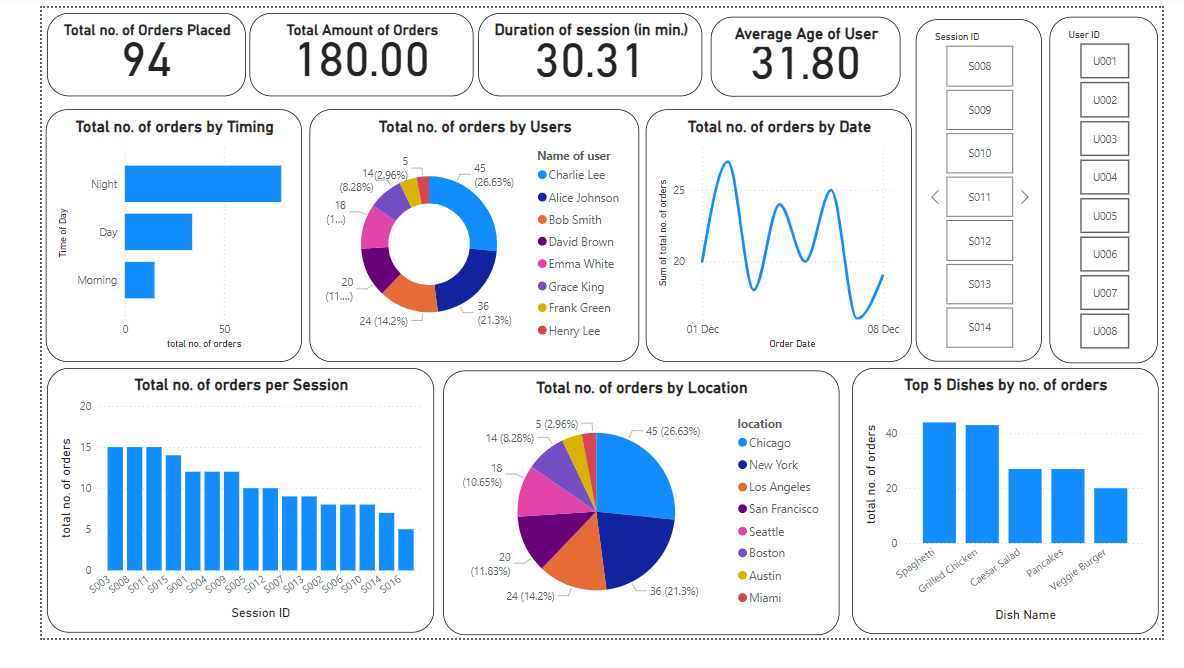

This screenshot's page, from the dashboard's own definition file:
{"tool":"powerbi","page":{"name":"Page 1","canvas":[1280,720],"ordinal":0},"visuals":[{"type":"donutChart","title":"Total no. of orders by Users","fields":{"Category":["user detail+ cookoing session.UserDetails csv.User Name"],"Y":["user detail+ cookoing session.UserDetails csv.Total Orders"]},"box":[305.7,115.7,377.1,288.6],"z":0},{"type":"lineClusteredColumnComboChart","title":"Total no. of orders per Session","fields":{"Category":["user detail+ cookoing session.Session ID"],"Y":["user detail+ cookoing session.UserDetails csv.Total Orders"]},"box":[6.2,411.2,442.5,302.5],"z":1000},{"type":"pieChart","title":"Total no. of orders by Location","fields":{"Y":["user detail+ cookoing session.UserDetails csv.Total Orders"],"Category":["user detail+ cookoing session.UserDetails csv.Location"]},"box":[458.8,413.8,452.5,302.5],"z":2000},{"type":"columnChart","title":"Top 5 Dishes by no. of orders","fields":{"Category":["user detail+ cookoing session.Dish Name"],"Y":["user detail+ cookoing session.UserDetails csv.Total Orders"]},"box":[925.7,411.4,350,304.3],"z":4000},{"type":"card","title":"Total no. of Orders Placed","fields":{"Values":["UserDetails csv.Total Orders"]},"box":[5,5,227.5,95],"z":5000},{"type":"card","title":"Total Amount of Orders ","fields":{"Values":["cooking session+order detail.OrderDetails csv.Amount (USD)"]},"box":[237.5,5,256.2,95],"z":6000},{"type":"clusteredBarChart","title":"Total no. of orders by Timing","fields":{"Category":["cooking session+order detail.OrderDetails csv.Time of Day"],"Y":["user detail+ cookoing session.total no. of orders"]},"box":[4.3,115.7,292.9,288.6],"z":7000},{"type":"card","title":"Duration of session (in min.)","fields":{"Values":["CookingSessions csv.Average duration of Session"]},"box":[498.8,5,256.2,95],"z":8000},{"type":"slicer","fields":{"Values":["user detail+ cookoing session.User ID"]},"box":[1151.4,10,124.3,395.7],"z":9000},{"type":"lineChart","title":"Total no. of orders by Date","fields":{"Y":["user detail+ cookoing session.total no. of orders"],"Category":["OrderDetails csv.Order Date"]},"box":[690,115.7,304.3,288.6],"z":9001},{"type":"slicer","fields":{"Values":["CookingSessions csv.Session ID"]},"box":[998.6,12.9,144.3,391.4],"z":9002},{"type":"card","title":"Average Age of User","fields":{"Values":["UserDetails csv.Average Age"]},"box":[764.3,10,217.1,91.4],"z":9003}]}

Visuals, with their boxes in screenshot pixels (x1, y1, x2, y2), scaled from the page's 1280x720 canvas onto the 1184x668 screenshot:
"Total no. of orders by Users" donutChart: (left=283, top=107, right=632, bottom=375)
"Total no. of orders per Session" lineClusteredColumnComboChart: (left=6, top=382, right=415, bottom=662)
"Total no. of orders by Location" pieChart: (left=424, top=384, right=843, bottom=665)
"Top 5 Dishes by no. of orders" columnChart: (left=856, top=382, right=1180, bottom=664)
"Total no. of Orders Placed" card: (left=5, top=5, right=215, bottom=93)
"Total Amount of Orders " card: (left=220, top=5, right=457, bottom=93)
"Total no. of orders by Timing" clusteredBarChart: (left=4, top=107, right=275, bottom=375)
"Duration of session (in min.)" card: (left=461, top=5, right=698, bottom=93)
slicer - user detail+ cookoing session.User ID: (left=1065, top=9, right=1180, bottom=376)
"Total no. of orders by Date" lineChart: (left=638, top=107, right=920, bottom=375)
slicer - CookingSessions csv.Session ID: (left=924, top=12, right=1057, bottom=375)
"Average Age of User" card: (left=707, top=9, right=908, bottom=94)
